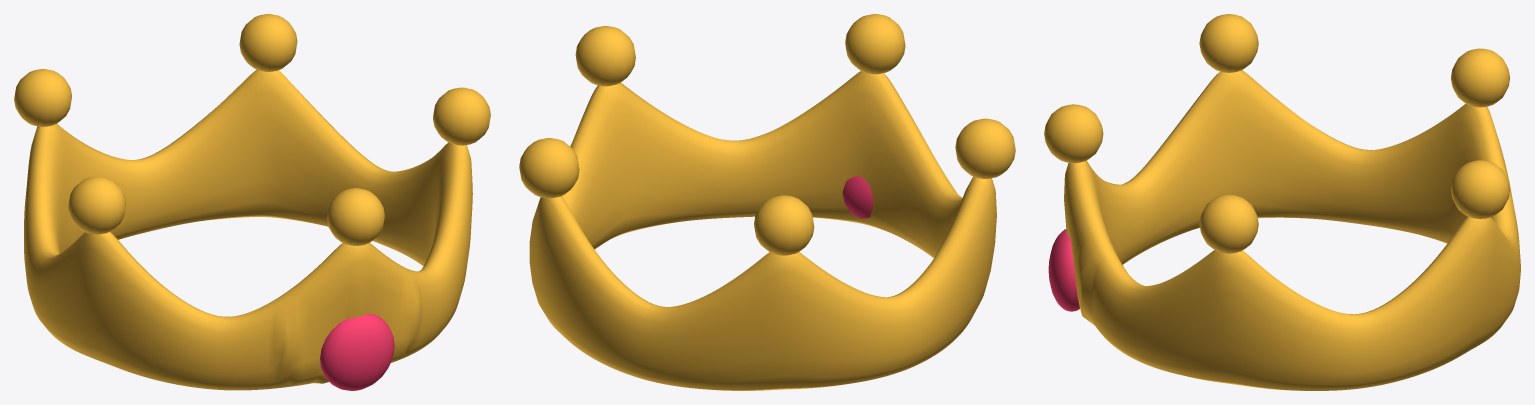
File: Crown.fbx
3 renders of one model, left to right at view 1: azimuth 30°, elevation 25°; view 2: azimuth 150°, elevation 25°; view 3: azimuth 270°, elevation 25°, orthographic. The views are drawn at different scales.
Visible parts, largest first — view 1: Crown; view 2: Crown; view 3: Crown.
Boxes of the visible parts, x1,y1,x2,y2 form: Crown: [14, 14, 490, 390]; Crown: [519, 14, 1015, 390]; Crown: [1044, 14, 1520, 390].
Size of the model in its own units: 0.3932 by 0.179 by 0.385.
